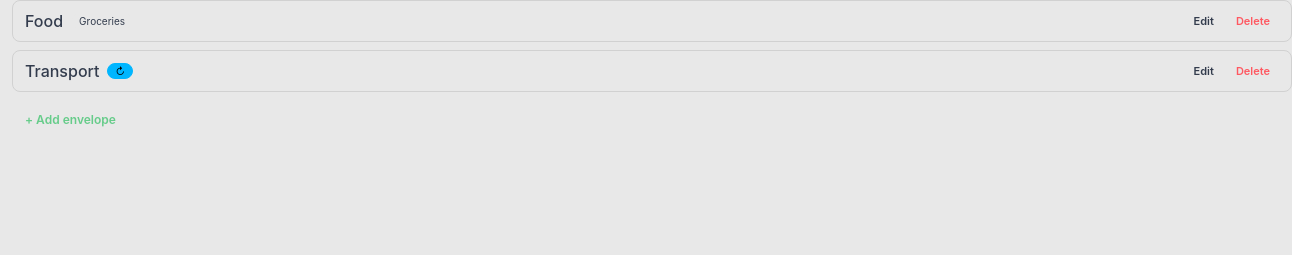
Test: EnvelopeManager › creates envelope and reloads list
Click the button "+ Add envelope": (70, 120) [12, 104, 129, 136]
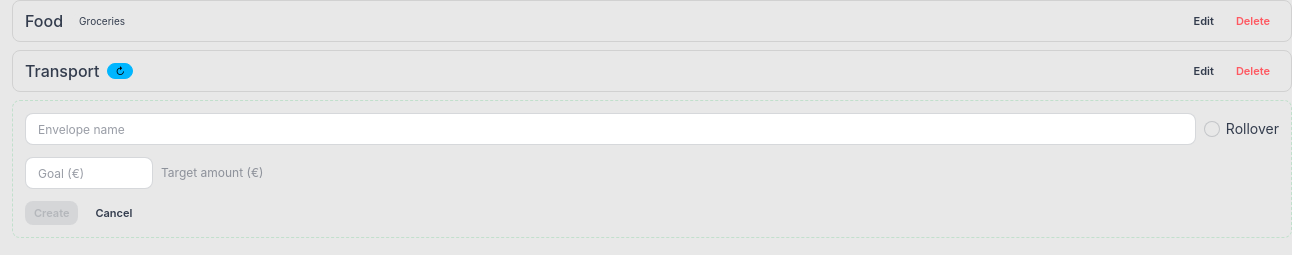
In the field with placeholder "Envelope name": (610, 129) [25, 113, 1196, 145], type "Leisure"
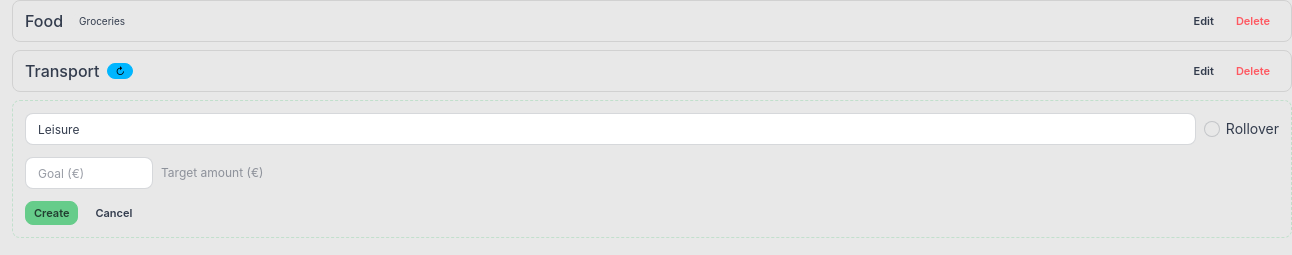
Click the button "Create": (52, 213) [25, 201, 78, 225]
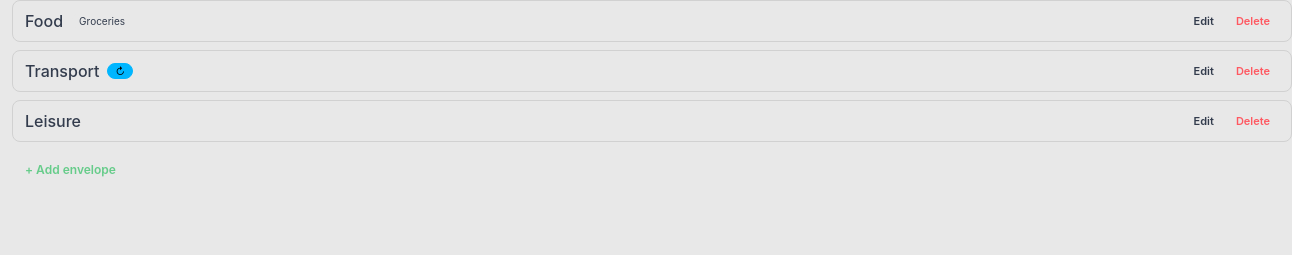
Expected: the text "Leisure" is shown, [25, 109, 81, 133]
